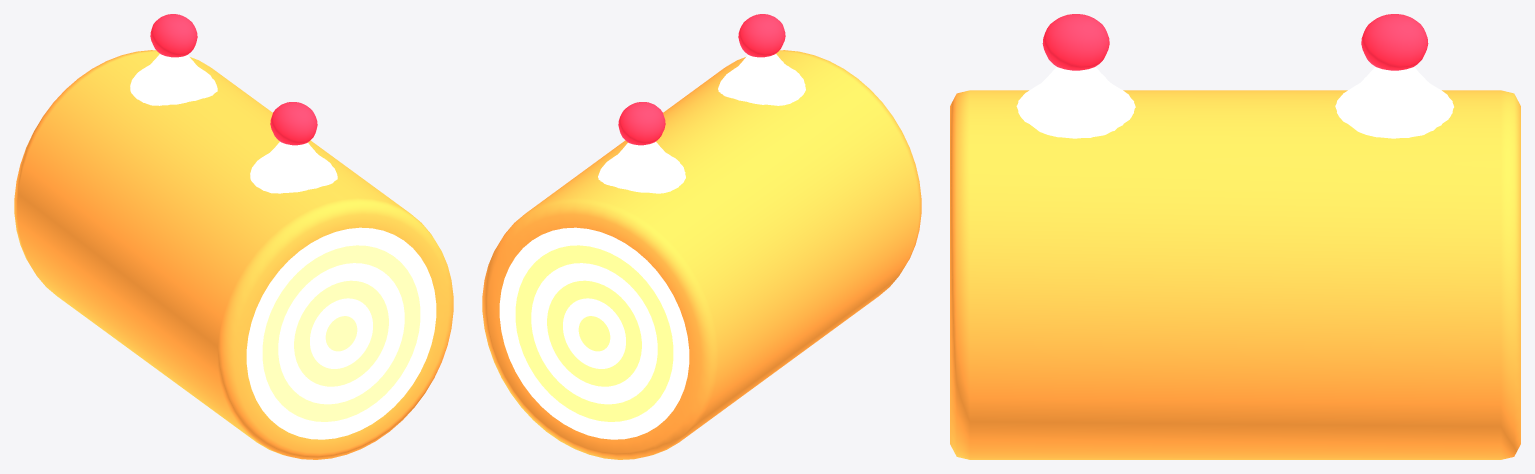
3 renders of one model, left to right at view 1: azimuth 30°, elevation 25°; view 2: azimuth 150°, elevation 25°; view 3: azimuth 270°, elevation 25°, orthographic. The views are drawn at different scales.
Parts seen in each view (by area): view 1: CakeRoll-whole; view 2: CakeRoll-whole; view 3: CakeRoll-whole.
Part boxes in pixels (x1,y1,x2,y2): CakeRoll-whole: [14, 14, 453, 459]; CakeRoll-whole: [482, 14, 921, 459]; CakeRoll-whole: [950, 14, 1520, 459].
Bounding box in the file's own units: 1.71 × 2.25 × 2.73.
